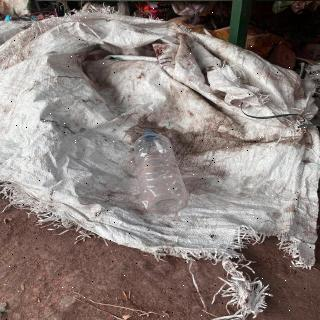Plastic-bottle: (131, 126, 192, 218)
